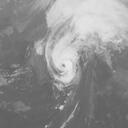cyclone: (45, 40, 82, 87)
